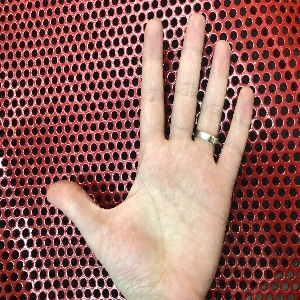hand: (47, 14, 254, 300)
